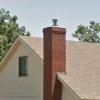Chimney: (38, 15, 71, 96)
